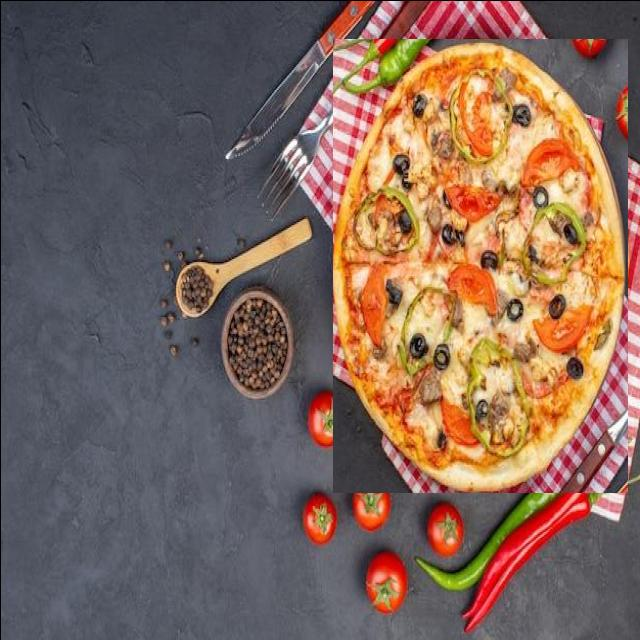olive: (545, 340, 569, 376), (428, 404, 451, 428), (497, 282, 519, 307), (509, 159, 528, 186), (392, 210, 413, 234), (533, 174, 553, 198), (376, 151, 396, 174), (434, 210, 454, 232), (533, 413, 549, 440), (413, 320, 428, 346), (382, 285, 396, 310), (472, 110, 486, 134), (461, 261, 478, 280), (510, 84, 524, 102), (507, 321, 519, 338), (422, 271, 432, 289)
pizza: (332, 38, 627, 492)
